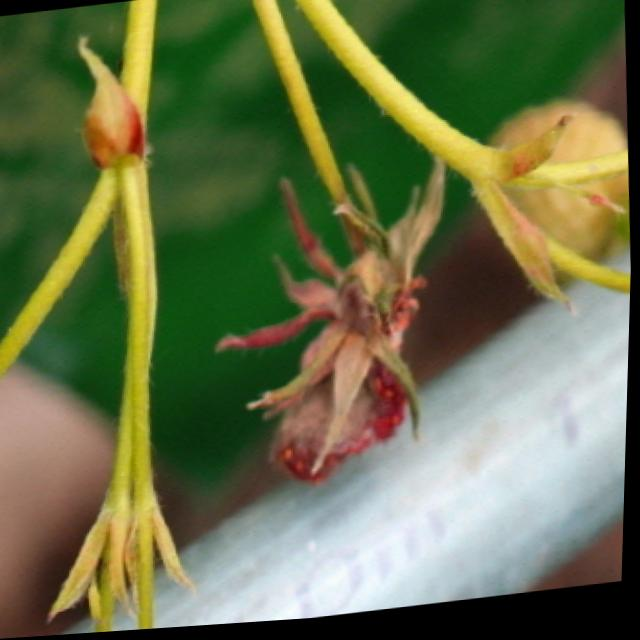Gray Mold: (221, 166, 447, 490)
